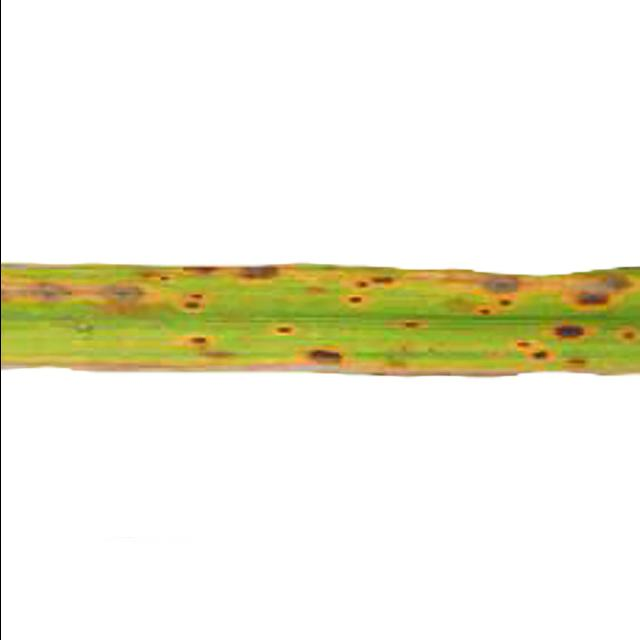Brown spot: (0, 182, 640, 405)
